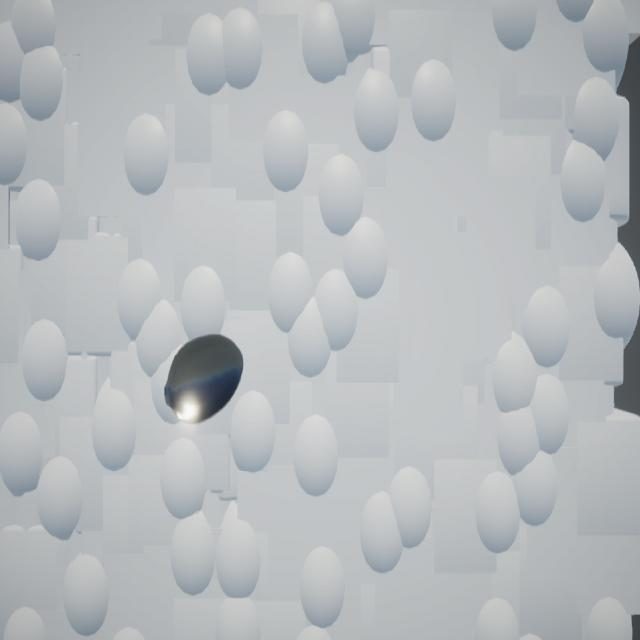top_spoon: (165, 336, 244, 426)
